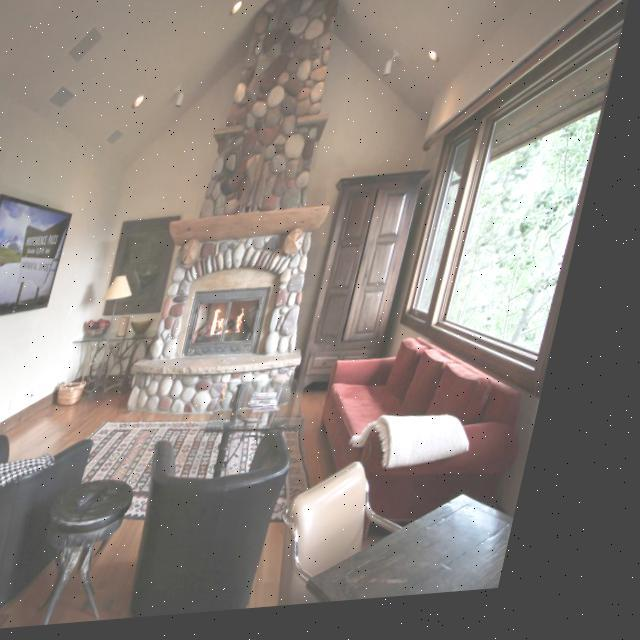Fire: (208, 306, 272, 346)
